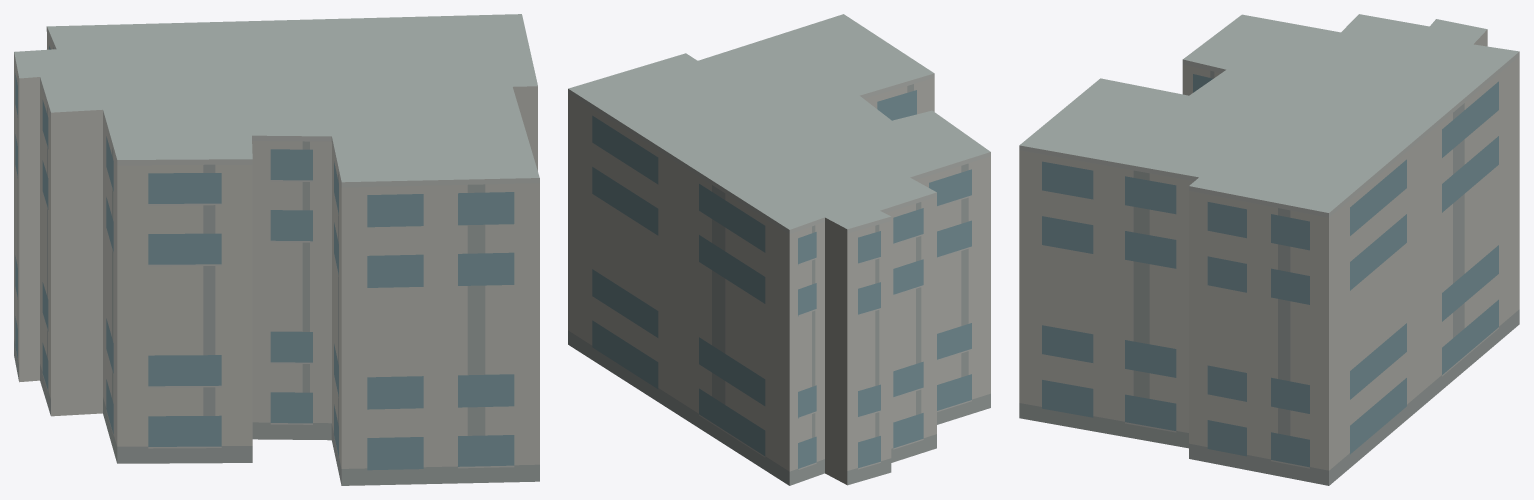
File: survey-upis-32574356.glb
3 views of the same model, side by side, from view 1: azimuth 30°, elevation 25°; view 2: azimuth 150°, elevation 25°; view 3: azimuth 270°, elevation 25° (orthographic). The views are drawn at different scales.
Visible parts, largest first — view 1: survey-upis-32574356.tmp; view 2: survey-upis-32574356.tmp; view 3: survey-upis-32574356.tmp.
Boxes of the visible parts, box(x1,y1,x2,y2) form: survey-upis-32574356.tmp: box(14, 14, 539, 485); survey-upis-32574356.tmp: box(568, 14, 990, 485); survey-upis-32574356.tmp: box(1019, 14, 1519, 485).
Bounding box in the file's own units: 21.77 × 13.9 × 23.12.
